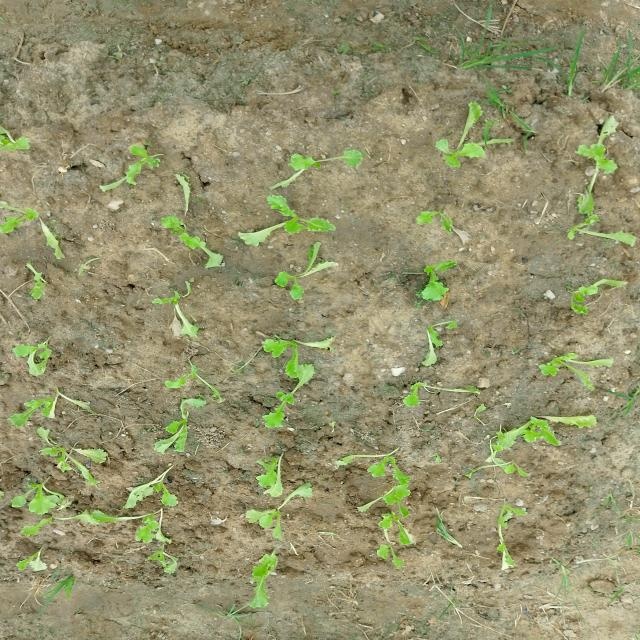Lettuce: (483, 408, 602, 458), (432, 103, 513, 173), (568, 113, 622, 216), (234, 482, 320, 542), (237, 195, 336, 246), (248, 373, 338, 428), (259, 147, 367, 192), (2, 389, 107, 431), (255, 329, 340, 379), (272, 248, 345, 302), (101, 142, 171, 198), (533, 351, 619, 396), (33, 431, 106, 481), (562, 269, 634, 318), (0, 192, 58, 250), (150, 399, 209, 454), (163, 358, 224, 409), (386, 381, 486, 412), (158, 278, 205, 342), (241, 550, 290, 610), (124, 461, 185, 509), (561, 216, 640, 251), (407, 259, 464, 307), (117, 505, 190, 542), (412, 319, 467, 367), (252, 444, 300, 498), (343, 448, 414, 482), (12, 474, 66, 518), (356, 485, 422, 521), (370, 520, 420, 566), (413, 198, 466, 241), (494, 508, 529, 572), (9, 334, 55, 378), (13, 512, 96, 536), (469, 453, 530, 484), (0, 111, 30, 171), (17, 544, 52, 584), (140, 548, 194, 573), (20, 266, 58, 298)
